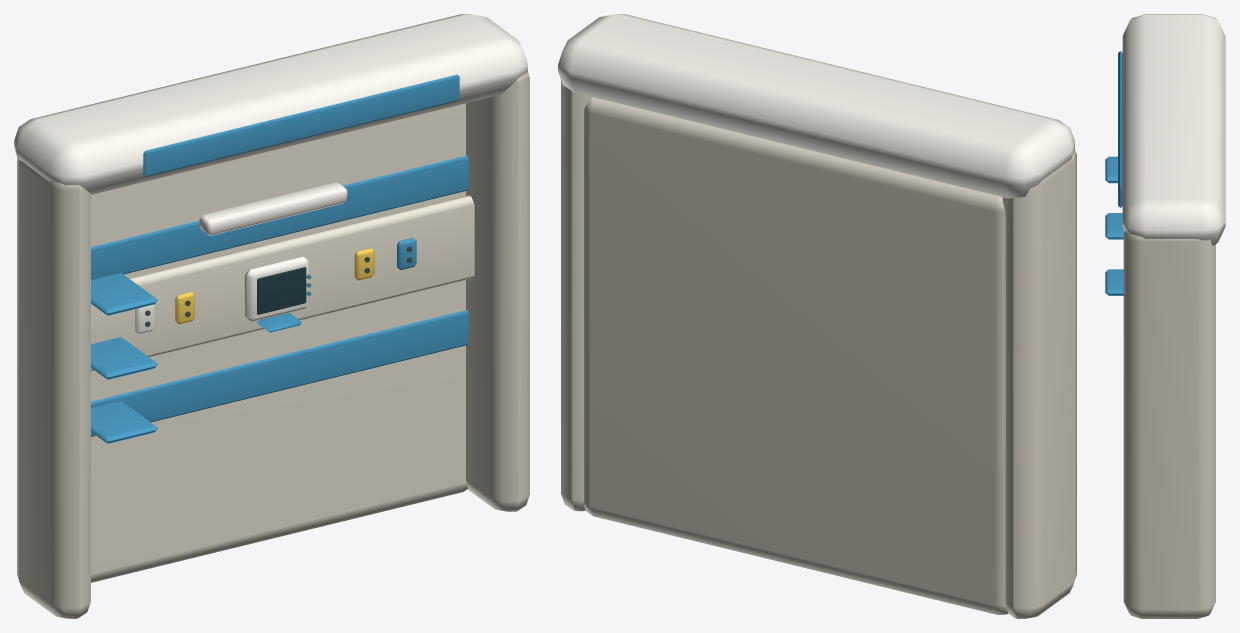
File: RecoveryHeadwall_advanced.glb
3 renders of one model, left to right at view 1: azimuth 30°, elevation 25°; view 2: azimuth 150°, elevation 25°; view 3: azimuth 270°, elevation 25°, orthographic. The views are drawn at different scales.
Visible parts, largest first — view 1: Static_ivory, Static_white, Static_blue, Static_screen, Static_yellow; view 2: Static_ivory, Static_white; view 3: Static_ivory, Static_white, Static_blue.
Boxes of the visible parts, x1,y1,x2,y2 form: Static_ivory: (17, 72, 529, 618); Static_white: (14, 14, 527, 333); Static_blue: (91, 74, 468, 443); Static_screen: (257, 267, 306, 314); Static_yellow: (175, 248, 374, 324); Static_ivory: (561, 80, 1076, 618); Static_white: (558, 14, 1074, 198); Static_ivory: (1123, 231, 1215, 618); Static_white: (1122, 14, 1225, 245); Static_blue: (1105, 51, 1124, 295).
Bounding box in the file's own units: 2.26 × 2.14 × 0.56.
